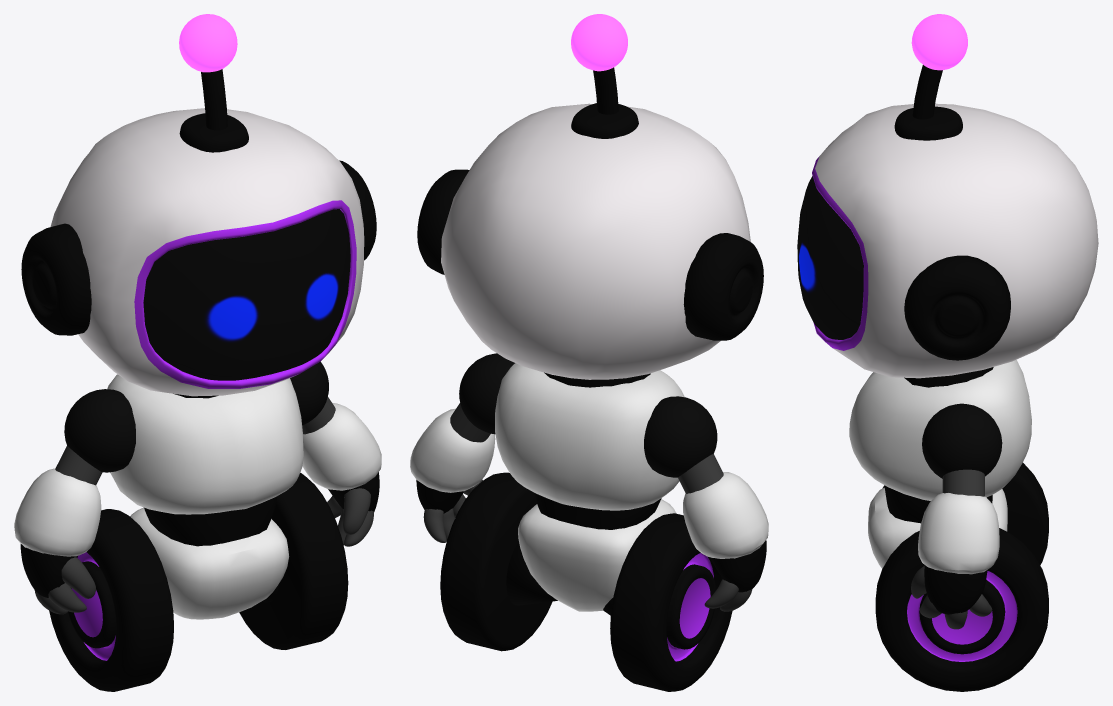
Rendered from dac-robot.glb.
The picture shows the model from 3 angles, left to right: view 1: azimuth 30°, elevation 25°; view 2: azimuth 150°, elevation 25°; view 3: azimuth 270°, elevation 25°; orthographic projection. The views are drawn at different scales.
Visible parts, largest first — view 1: Head, Chest, LeftArm, RightWheel, LeftWheel, Hips, RightArm, Antenna, MidSpine; view 2: Head, Chest, RightWheel, LeftWheel, LeftArm, RightArm, Hips, Antenna, MidSpine, Neck; view 3: Head, LeftWheel, RightArm, Chest, Antenna, RightWheel, Hips, MidSpine, Neck.
Part boxes in pixels (left/top/right/bottom): Head: left=21, top=108, right=376, bottom=396; Chest: left=107, top=374, right=303, bottom=514; LeftArm: left=14, top=389, right=135, bottom=614; RightWheel: left=49, top=509, right=173, bottom=691; LeftWheel: left=239, top=473, right=348, bottom=649; Hips: left=130, top=507, right=289, bottom=619; RightArm: left=290, top=361, right=381, bottom=546; Antenna: left=179, top=14, right=248, bottom=152; MidSpine: left=144, top=496, right=277, bottom=546; Head: left=417, top=103, right=763, bottom=379; Chest: left=495, top=363, right=684, bottom=510; RightWheel: left=603, top=513, right=732, bottom=691; LeftWheel: left=440, top=472, right=557, bottom=651; LeftArm: left=644, top=396, right=768, bottom=611; RightArm: left=410, top=353, right=514, bottom=542; Hips: left=518, top=499, right=676, bottom=611; Antenna: left=571, top=14, right=638, bottom=138; MidSpine: left=534, top=493, right=661, bottom=529; Neck: left=544, top=372, right=650, bottom=387; Head: left=797, top=103, right=1098, bottom=378; LeftWheel: left=875, top=528, right=1048, bottom=691; RightArm: left=911, top=403, right=1002, bottom=629; Chest: left=849, top=359, right=1031, bottom=500; Antenna: left=894, top=14, right=967, bottom=140; RightWheel: left=882, top=463, right=1048, bottom=565; Hips: left=868, top=487, right=1007, bottom=568; MidSpine: left=884, top=485, right=992, bottom=523; Neck: left=904, top=367, right=993, bottom=387.
Bounding box in the file's own units: 0.213 × 0.3741 × 0.1628.
18 materials, 1 textured.
